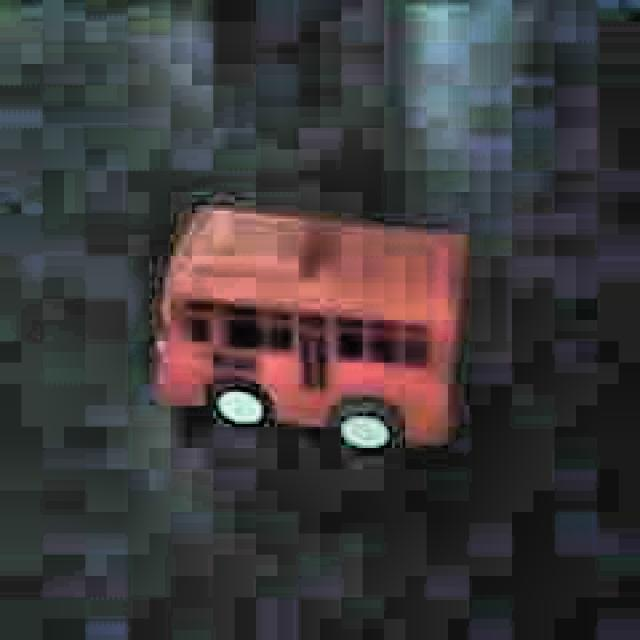bus: (143, 199, 470, 469)
